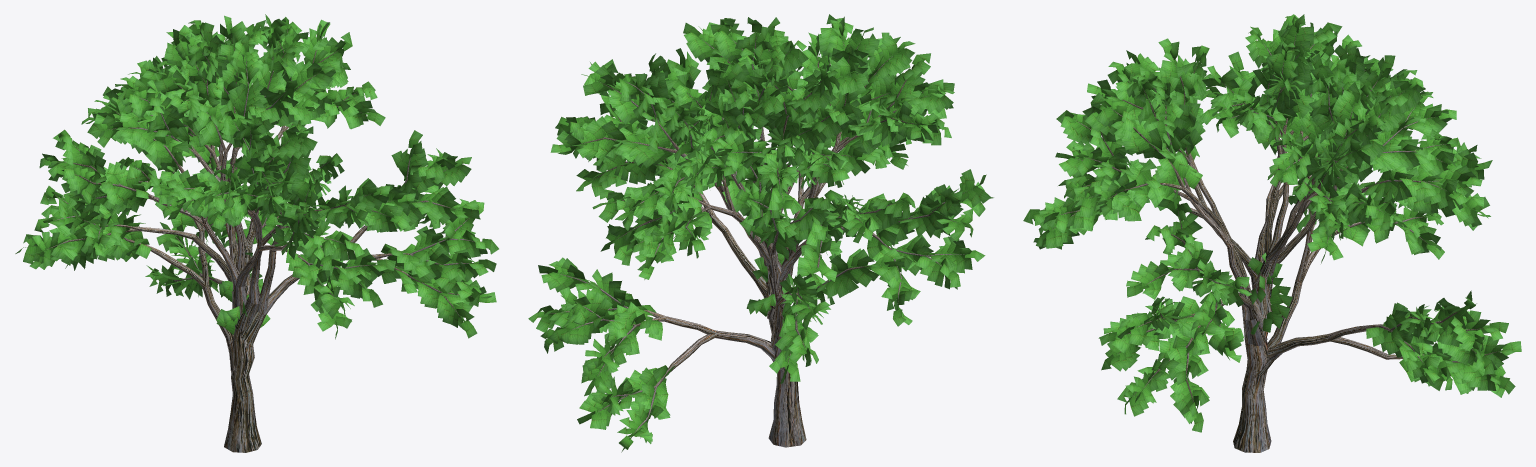
Rendered from Tree_3.fbx.
3 renders of one model, left to right at view 1: azimuth 30°, elevation 25°; view 2: azimuth 150°, elevation 25°; view 3: azimuth 270°, elevation 25°, orthographic. The views are drawn at different scales.
Parts seen in each view (by area): view 1: oakWhiteMedium3Leaf, oakWhiteMedium3Main; view 2: oakWhiteMedium3Leaf, oakWhiteMedium3Main; view 3: oakWhiteMedium3Leaf, oakWhiteMedium3Main.
Boxes of the visible parts, bbox=[...] form: oakWhiteMedium3Leaf: bbox=[15, 14, 498, 339]; oakWhiteMedium3Main: bbox=[33, 29, 474, 452]; oakWhiteMedium3Leaf: bbox=[528, 14, 993, 452]; oakWhiteMedium3Main: bbox=[550, 36, 966, 447]; oakWhiteMedium3Leaf: bbox=[1023, 14, 1521, 432]; oakWhiteMedium3Main: bbox=[1052, 33, 1500, 452].
Bounding box in the file's own units: 4.77 × 4.56 × 4.74.
